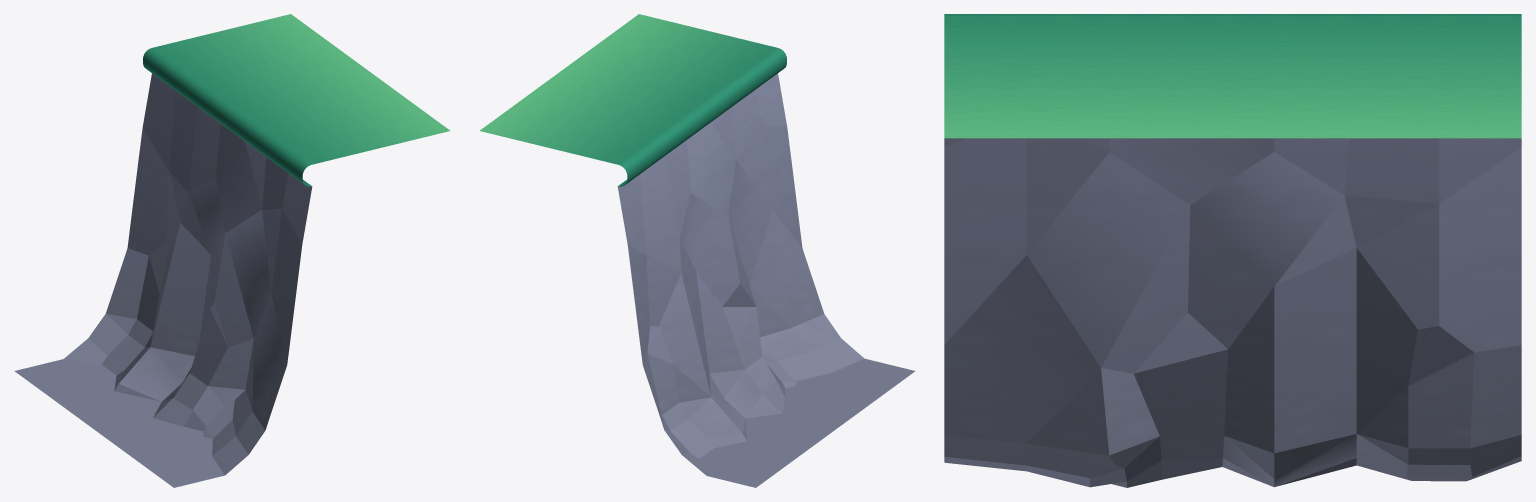
File: cliffStraight.fbx
3 views of the same model, side by side, from view 1: azimuth 30°, elevation 25°; view 2: azimuth 150°, elevation 25°; view 3: azimuth 270°, elevation 25° (orthographic). The views are drawn at different scales.
Parts seen in each view (by area): view 1: cliffStraight; view 2: cliffStraight; view 3: cliffStraight.
Part boxes in pixels (x1,y1,x2,y2): cliffStraight: [14, 14, 450, 487]; cliffStraight: [479, 14, 915, 487]; cliffStraight: [944, 14, 1521, 487].
Bounding box in the file's own units: 2 × 2 × 2.
